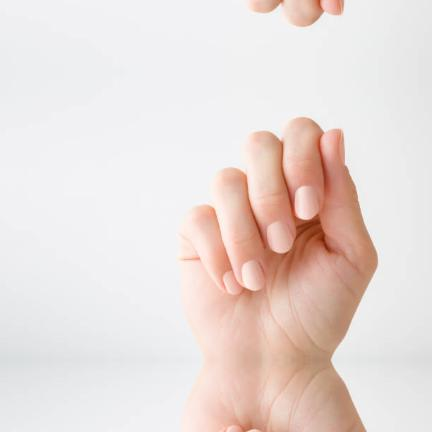Nail: (266, 221, 294, 254), (294, 185, 319, 220), (241, 260, 265, 291), (222, 270, 243, 295), (338, 129, 345, 165), (225, 425, 243, 432), (338, 0, 345, 15), (246, 429, 264, 432)
